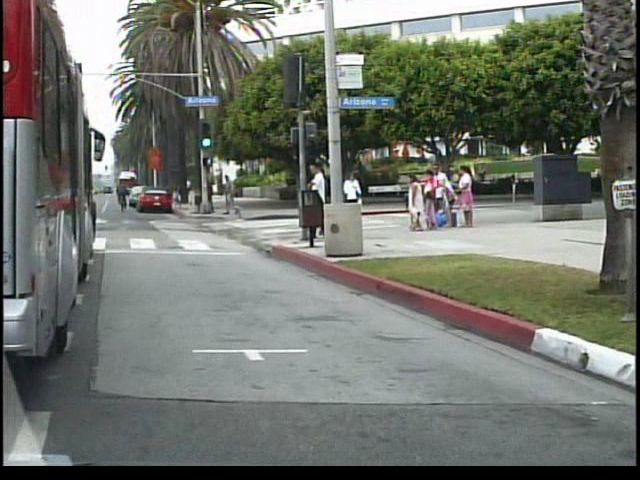person: (308, 158, 334, 242), (345, 167, 368, 230), (223, 170, 244, 217)
